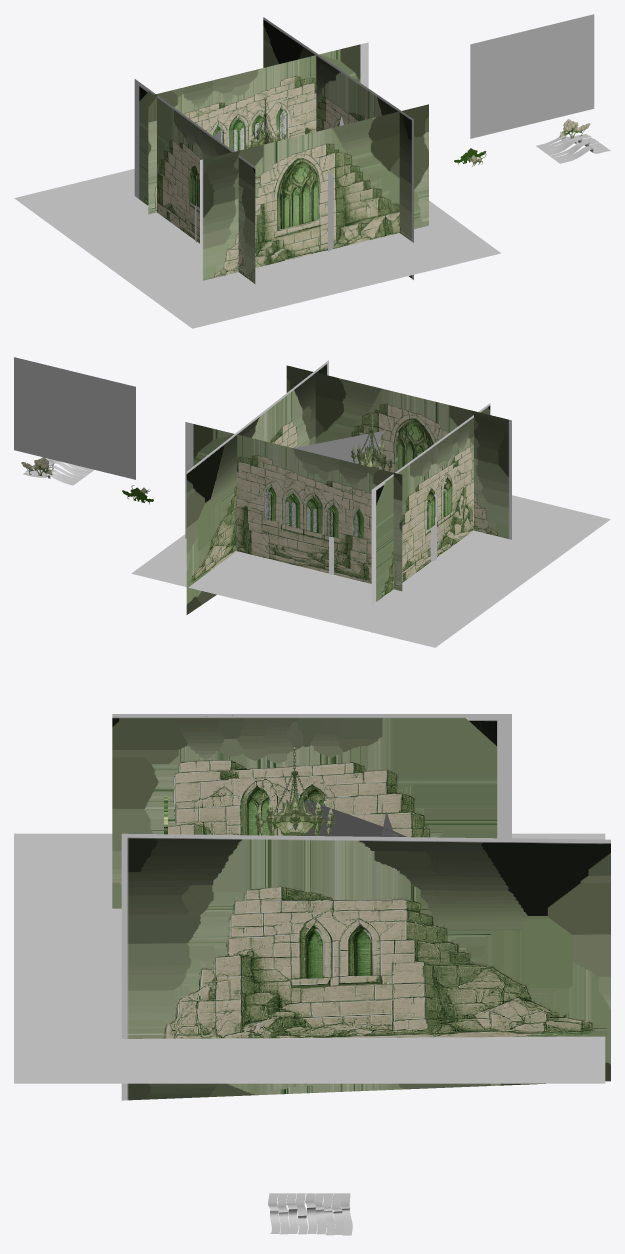
The model's file is 02_ScenaCastello.fbx.
3 views of the same model, one above another, from view 1: azimuth 30°, elevation 25°; view 2: azimuth 150°, elevation 25°; view 3: azimuth 270°, elevation 25° (orthographic). The views are drawn at different scales.
Parts seen in each view (by area): view 1: Floor, CastleWallsA, WoodsA, CastleWallsD, CastleWallsC, CastleWallsB, chandelier, Walls_interiorA; view 2: Floor, CastleWallsD, CastleWallsA, WoodsA, CastleWallsC, CastleWallsB, Walls_interiorA, chandelier, Walls_interiorB; view 3: CastleWallsB, Floor, CastleWallsC, chandelier, Walls_interiorB.
Part boxes in pixels (bbox=[...]): Floor: bbox=[14, 169, 500, 328]; CastleWallsA: bbox=[200, 104, 428, 281]; WoodsA: bbox=[470, 14, 594, 138]; CastleWallsD: bbox=[148, 42, 368, 214]; CastleWallsC: bbox=[134, 79, 255, 283]; CastleWallsB: bbox=[263, 17, 413, 279]; chandelier: bbox=[244, 98, 285, 148]; Walls_interiorA: bbox=[328, 117, 343, 251]; Floor: bbox=[131, 495, 610, 647]; CastleWallsD: bbox=[185, 422, 402, 591]; CastleWallsA: bbox=[286, 365, 511, 539]; WoodsA: bbox=[14, 357, 135, 479]; CastleWallsC: bbox=[371, 403, 490, 632]; CastleWallsB: bbox=[186, 360, 328, 614]; Walls_interiorA: bbox=[293, 430, 384, 469]; chandelier: bbox=[351, 415, 392, 471]; Walls_interiorB: bbox=[329, 494, 436, 574]; CastleWallsB: bbox=[121, 833, 610, 1100]; Floor: bbox=[14, 833, 605, 1083]; CastleWallsC: bbox=[112, 714, 511, 908]; chandelier: bbox=[255, 746, 334, 835]; Walls_interiorB: bbox=[304, 799, 406, 836].
Bounding box in the file's own units: 6526 × 2082 × 4040.
